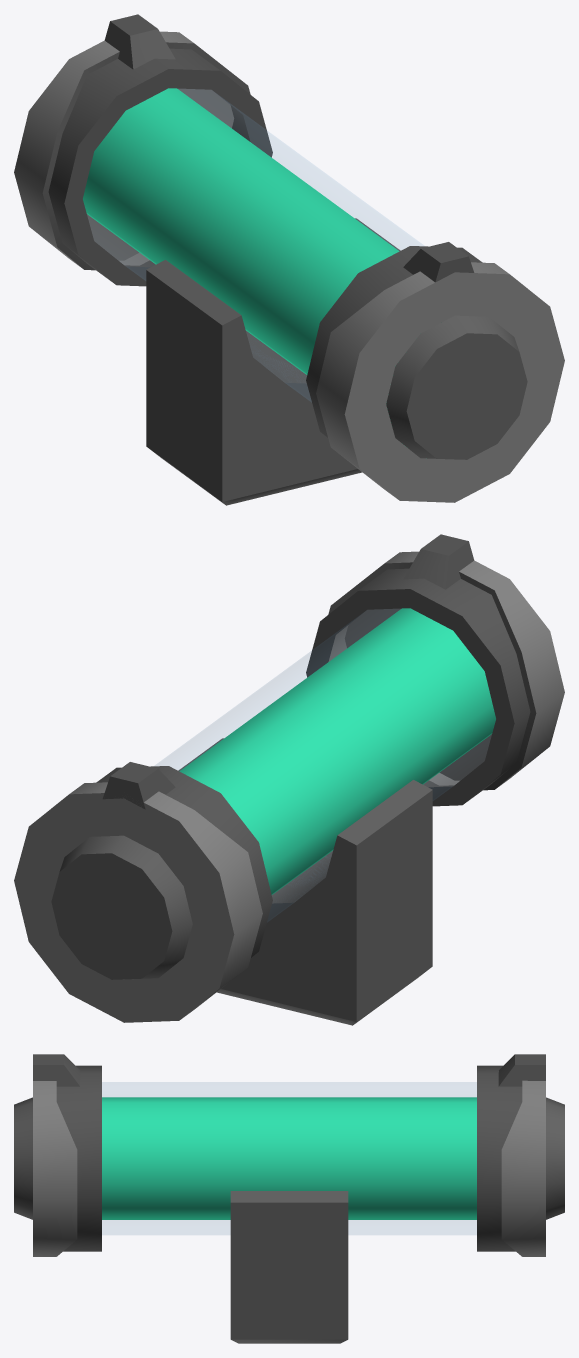
File: Liquid_Blue_Pipe.fbx
The picture shows the model from 3 angles, top to bottom: view 1: azimuth 30°, elevation 25°; view 2: azimuth 150°, elevation 25°; view 3: azimuth 270°, elevation 25°; orthographic projection. The views are drawn at different scales.
Visible parts, largest first — view 1: Liquid_Blue_Pipe; view 2: Liquid_Blue_Pipe; view 3: Liquid_Blue_Pipe.
Part boxes in pixels (box(x1,y1,x2,y2)): Liquid_Blue_Pipe: box(14, 14, 564, 505); Liquid_Blue_Pipe: box(14, 534, 564, 1025); Liquid_Blue_Pipe: box(14, 1054, 564, 1343).
Bounding box in the file's own units: 76.91 × 107 × 215.
